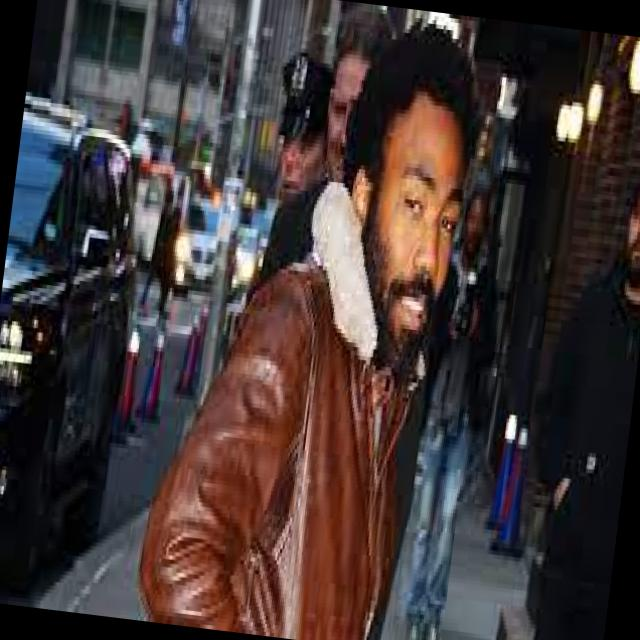Jacket: (127, 273, 454, 640), (509, 262, 640, 640), (408, 230, 516, 457)
